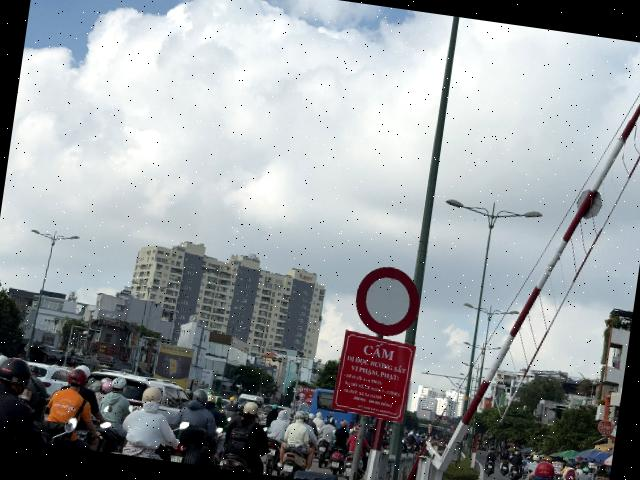duong-cam: (351, 263, 424, 340)
